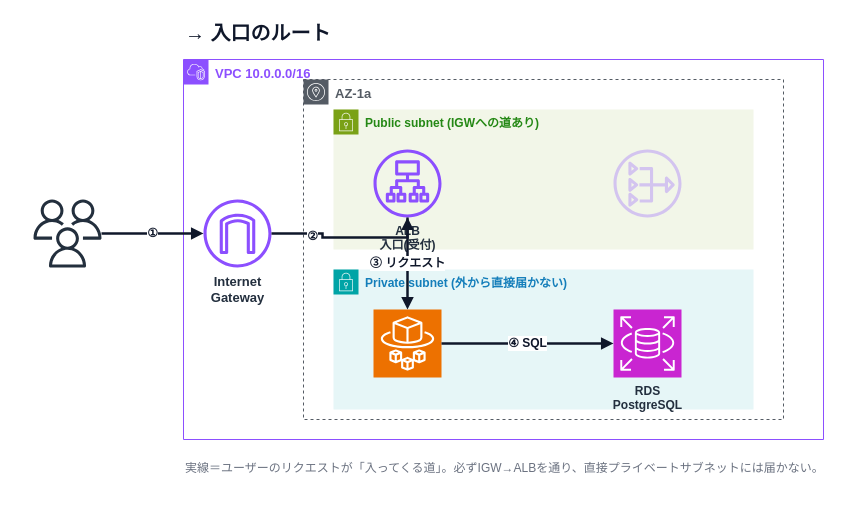
Image size: 841x511. Some labels were removed from this diagram. Each missing label, with the centre of its shape:
"ECSタスク Next.jsコンテナ" belongs at [407,343].
"NATゲートウェイ 出口(外向き専用)" belongs at [647,183].
"ユーザー (インターネット)" belongs at [67,233].
